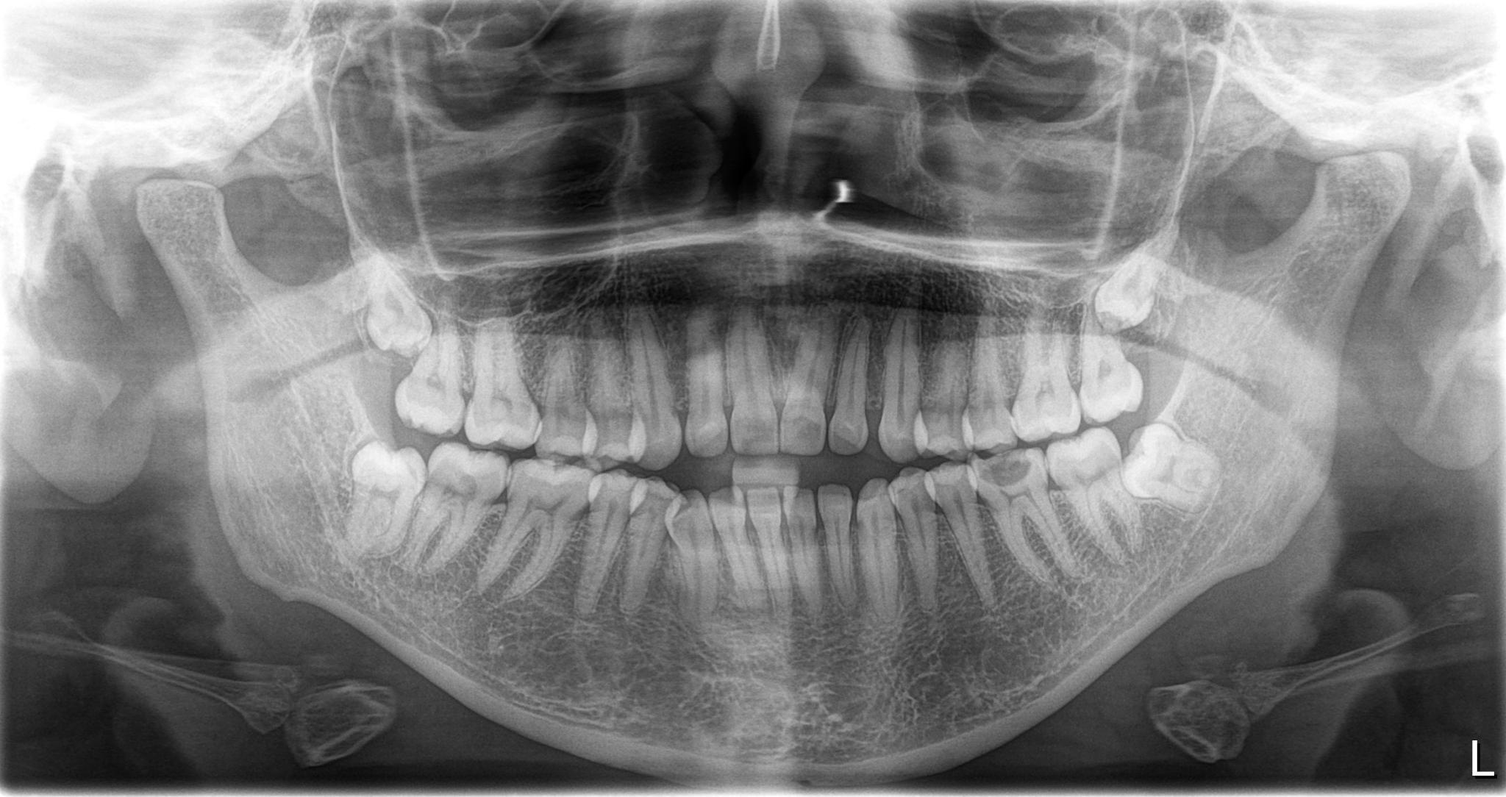Dental Caries: (973, 454, 1032, 495)
Impacted Third Molar: (1121, 428, 1249, 519), (344, 257, 435, 366), (1092, 257, 1198, 350)
